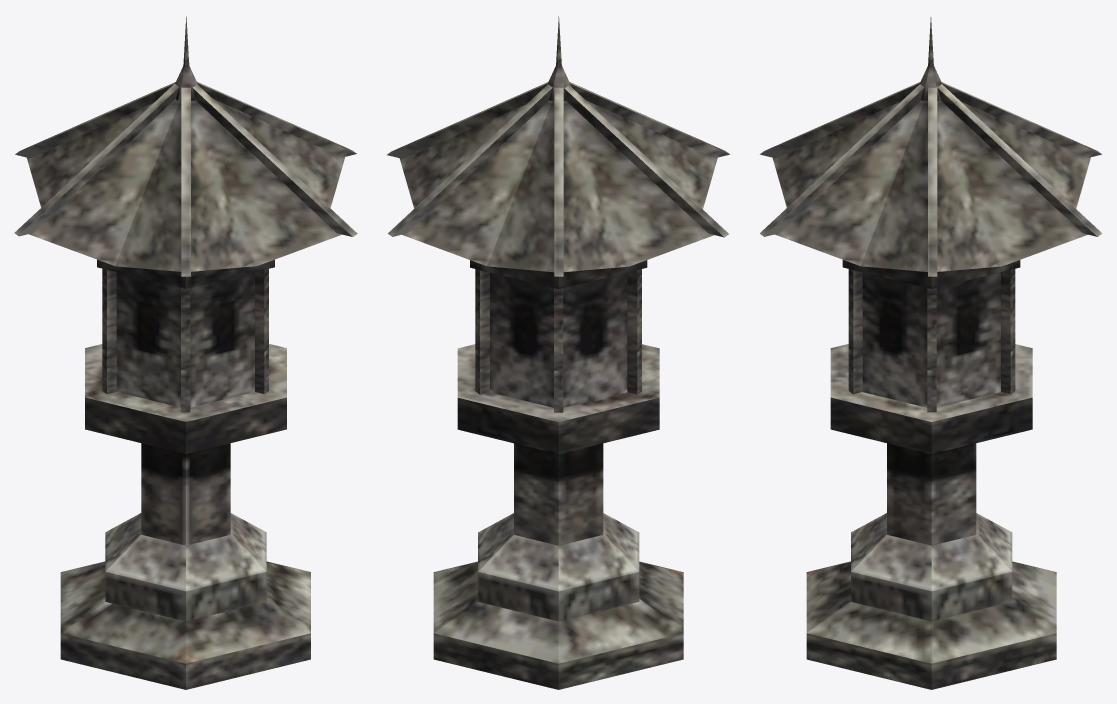
The picture shows the model from 3 angles, left to right: view 1: azimuth 30°, elevation 25°; view 2: azimuth 150°, elevation 25°; view 3: azimuth 270°, elevation 25°; orthographic projection.
Parts seen in each view (by area): view 1: jomyoung02; view 2: jomyoung02; view 3: jomyoung02.
Boxes of the visible parts, x1,y1,x2,y2 form: jomyoung02: [14, 16, 357, 689]; jomyoung02: [387, 16, 729, 689]; jomyoung02: [760, 17, 1101, 689].
Bounding box in the file's own units: 1.01 × 1.75 × 0.8841.
